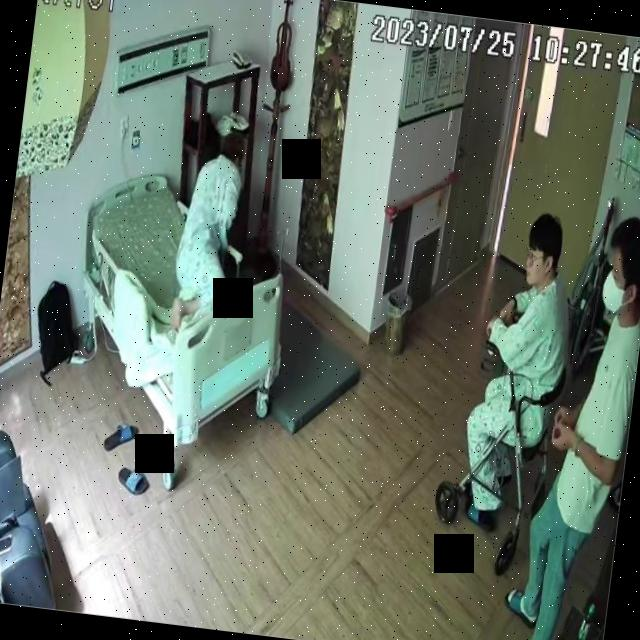danger: (164, 122, 250, 332)
patient: (165, 123, 252, 334)
